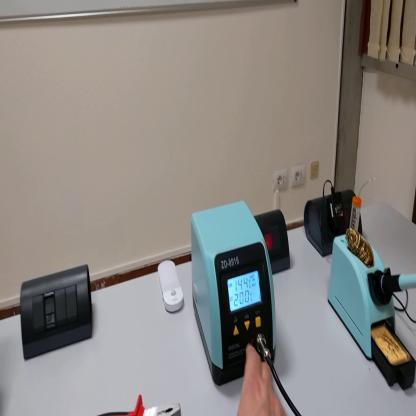hand: (239, 342, 285, 416)
pliers: (100, 390, 184, 414)
socket: (303, 190, 364, 258), (255, 206, 291, 274)
welder base: (329, 190, 416, 389)
welder probe tip: (382, 274, 414, 295)
welder station: (191, 201, 276, 385)
